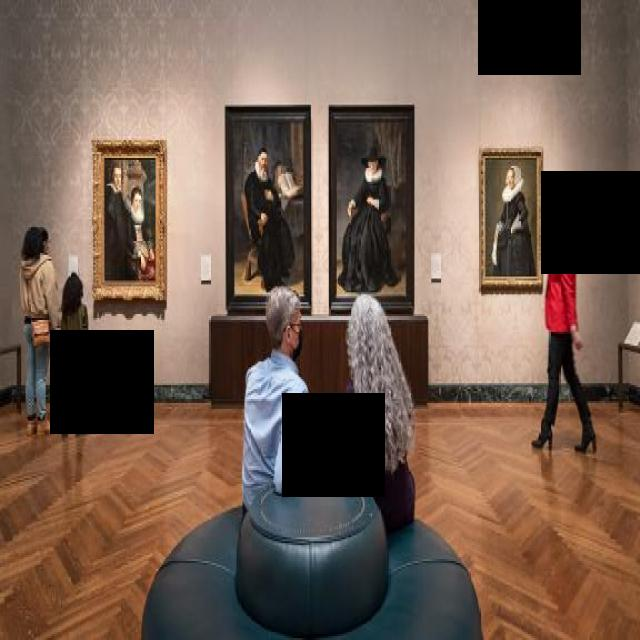Tablo: (335, 120, 409, 298), (232, 119, 305, 297), (104, 156, 156, 282), (485, 157, 537, 280)
